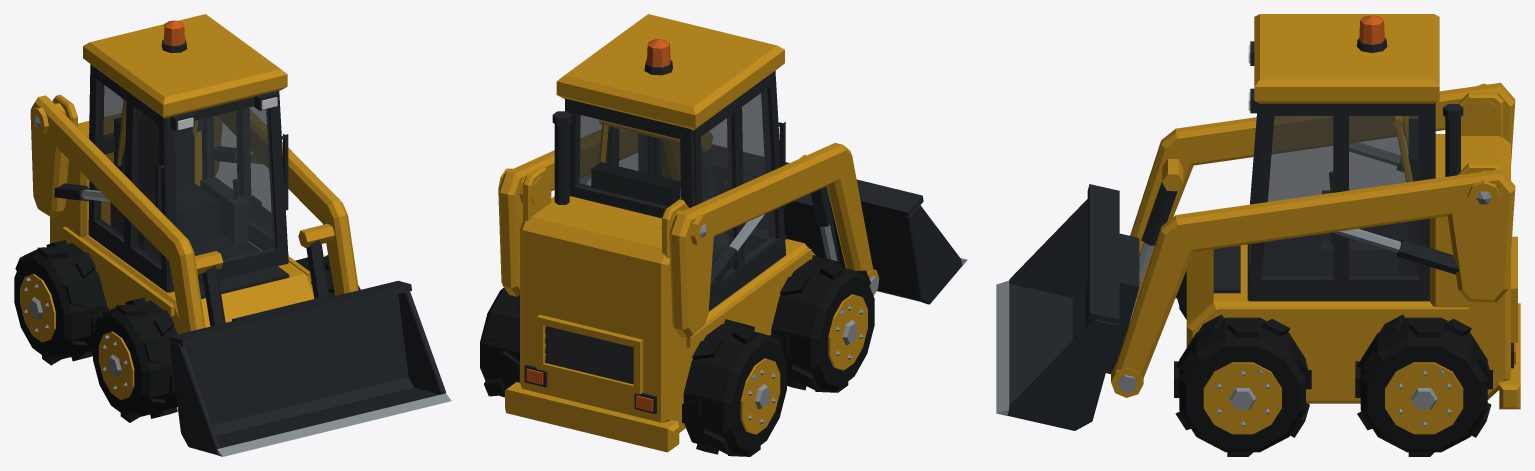
File: skid-steer-loader-268f4d.glb
3 renders of one model, left to right at view 1: azimuth 30°, elevation 25°; view 2: azimuth 150°, elevation 25°; view 3: azimuth 270°, elevation 25°, orthographic. The views are drawn at different scales.
Parts seen in each view (by area): view 1: body-mesh, bucket-mesh, lift-arm-mesh, glazing, wheel-mesh-rr, wheel-mesh-fr, wheel-mesh-rl; view 2: body-mesh, lift-arm-mesh, glazing, wheel-mesh-rr, wheel-mesh-fr, bucket-mesh, wheel-mesh-rl, quick-hitch-mesh; view 3: body-mesh, lift-arm-mesh, bucket-mesh, glazing, wheel-mesh-rl, wheel-mesh-fl, quick-hitch-mesh.
Part boxes in pixels (box(x1,y1,x2,y2)): body-mesh: box(30, 14, 314, 334); bucket-mesh: box(169, 280, 451, 456); lift-arm-mesh: box(30, 95, 358, 333); glazing: box(97, 81, 275, 266); wheel-mesh-rr: box(14, 240, 108, 365); wheel-mesh-fr: box(93, 297, 177, 422); wheel-mesh-rl: box(251, 195, 288, 255); body-mesh: box(498, 14, 815, 452); lift-arm-mesh: box(498, 129, 879, 338); glazing: box(577, 89, 775, 274); wheel-mesh-rr: box(682, 319, 786, 456); wheel-mesh-fr: box(771, 255, 874, 392); bucket-mesh: box(662, 144, 967, 304); wheel-mesh-rl: box(480, 288, 519, 397); quick-hitch-mesh: box(723, 175, 878, 294); body-mesh: box(1186, 14, 1520, 409); lift-arm-mesh: box(1111, 82, 1515, 397); bucket-mesh: box(996, 184, 1119, 430); glazing: box(1262, 116, 1418, 278); wheel-mesh-rl: box(1355, 314, 1492, 456); wheel-mesh-fl: box(1174, 314, 1311, 456); quick-hitch-mesh: box(1106, 233, 1139, 392).
Size of the model in its own units: 1.63 by 2.18 by 2.72.
